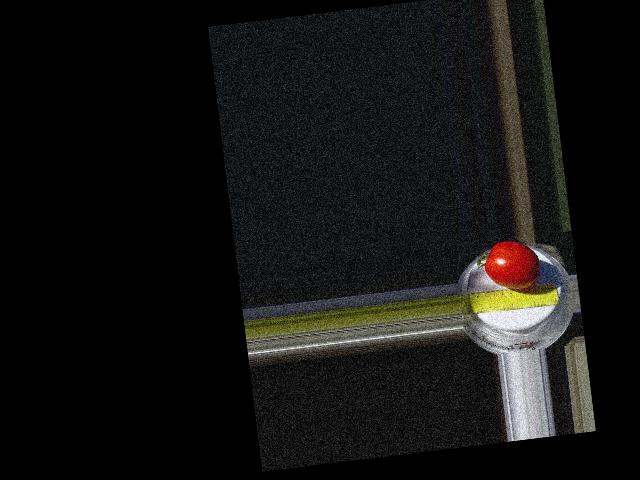tomato: (481, 237, 542, 293)
